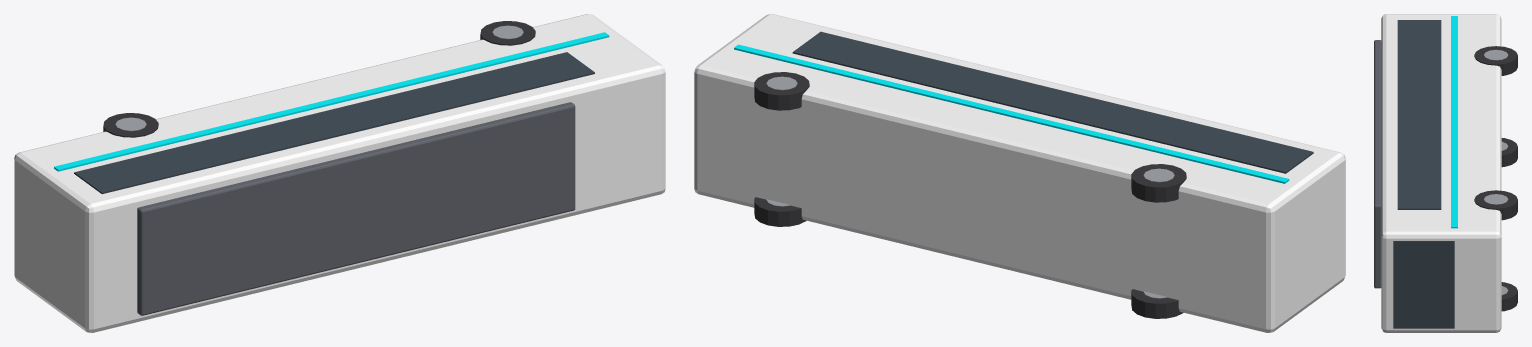
The model's file is bus.glb.
3 views of the same model, side by side, from view 1: azimuth 30°, elevation 25°; view 2: azimuth 150°, elevation 25°; view 3: azimuth 270°, elevation 25° (orthographic). The views are drawn at different scales.
Parts seen in each view (by area): view 1: bus; view 2: bus; view 3: bus.
Boxes of the visible parts, box(x1,y1,x2,y2) form: bus: box(14, 14, 665, 332); bus: box(694, 14, 1345, 332); bus: box(1374, 14, 1517, 332).
Bounding box in the file's own units: 12.03 × 2.62 × 3.29.
